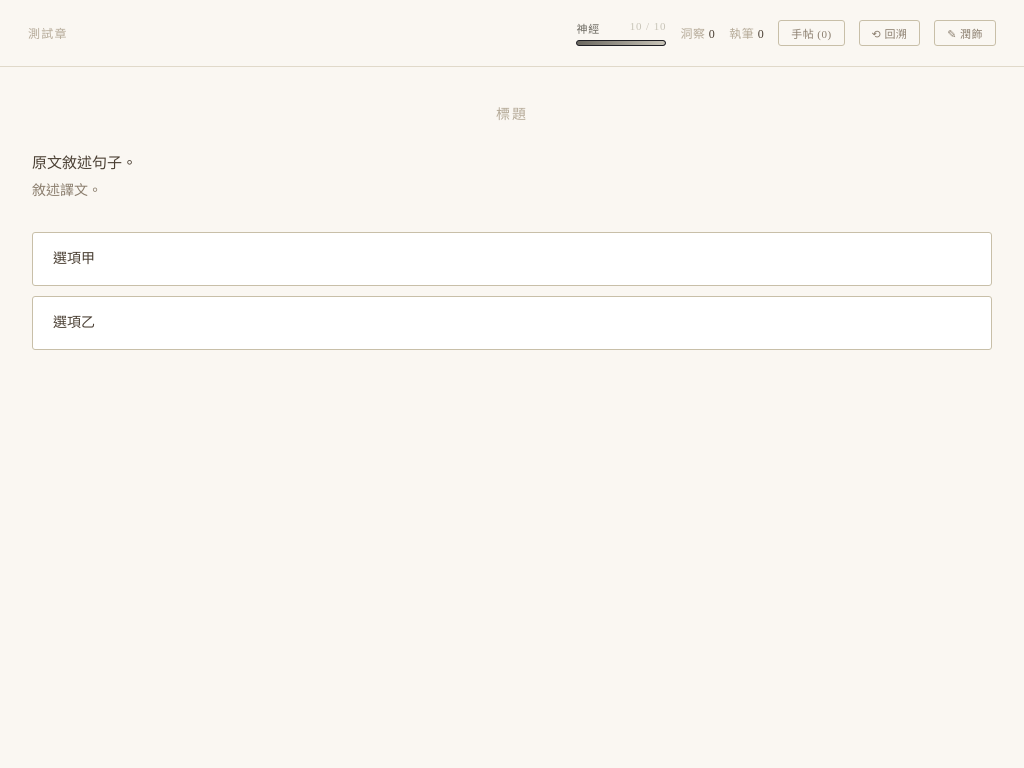
Scenario: HagurumaEngine — 編輯器潤飾模式 UI › editMode 下點擊 choice 按鈕不觸發選擇（不進下一場景），改開編輯面板
Expected: the button "選項甲" is shown, 32,232 -> 992,286
Step 1. Click the button "✎ 潤飾" → {"x": 965, "y": 33}, box 934,20 -> 996,46
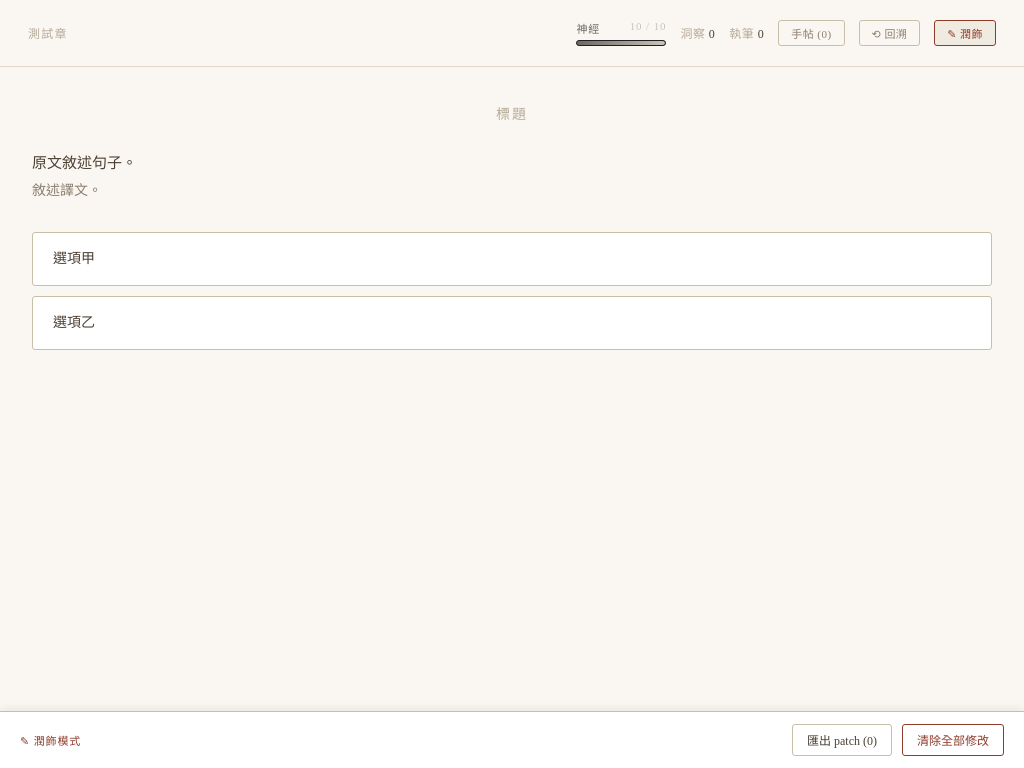
Step 2. Click the button "選項甲" → {"x": 74, "y": 259}, box 32,232 -> 992,286
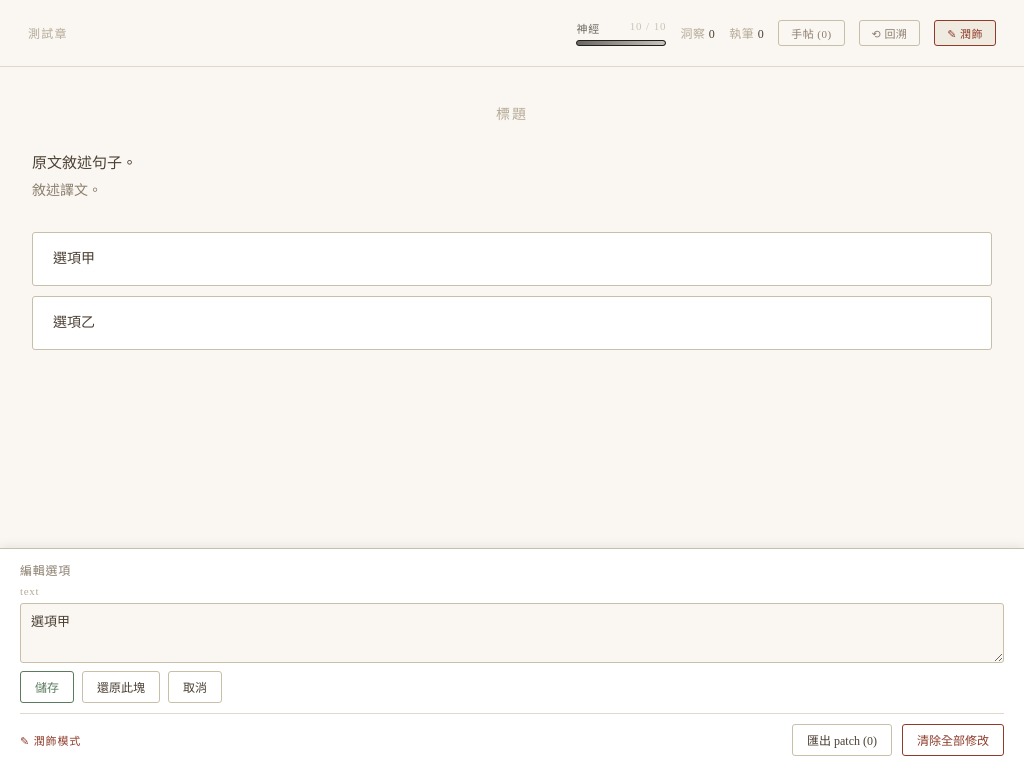
Expected: the button "選項乙" is shown, 32,296 -> 992,350
Expected: the text box with id "edit-panel-single" holds "選項甲"
Step 3. Replace the text in the text box with id "edit-panel-single" with "改過的選項甲" → {"x": 512, "y": 633}, box 20,603 -> 1004,663
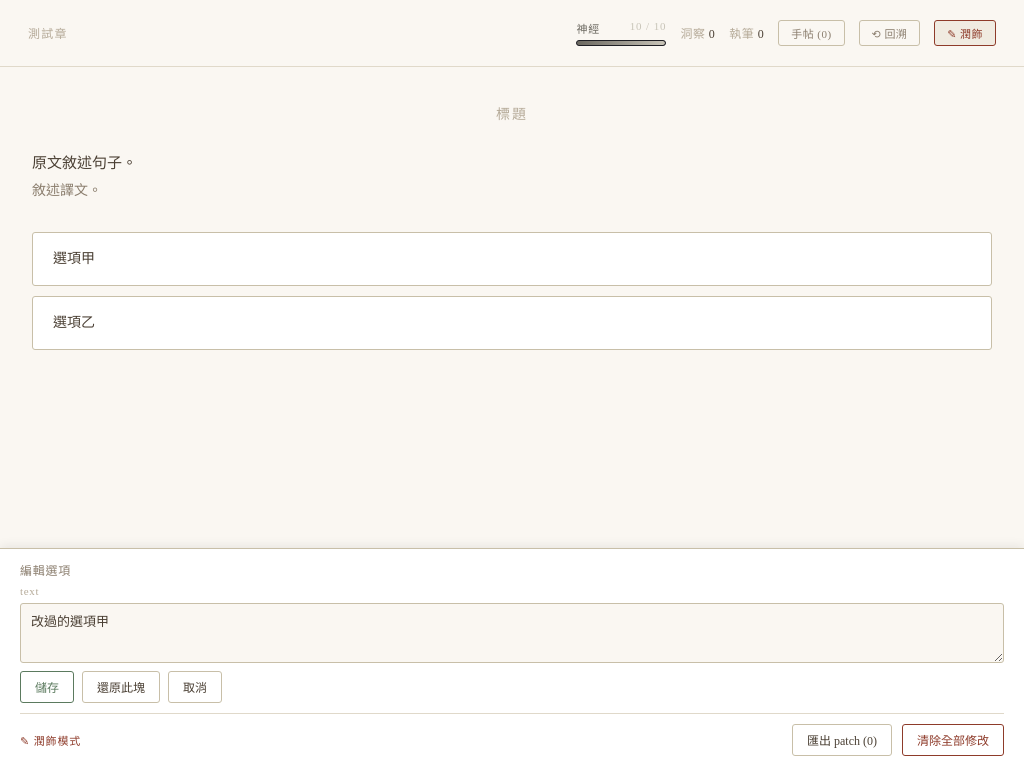
Step 4. Click the button "儲存" → {"x": 47, "y": 687}, box 20,671 -> 74,703
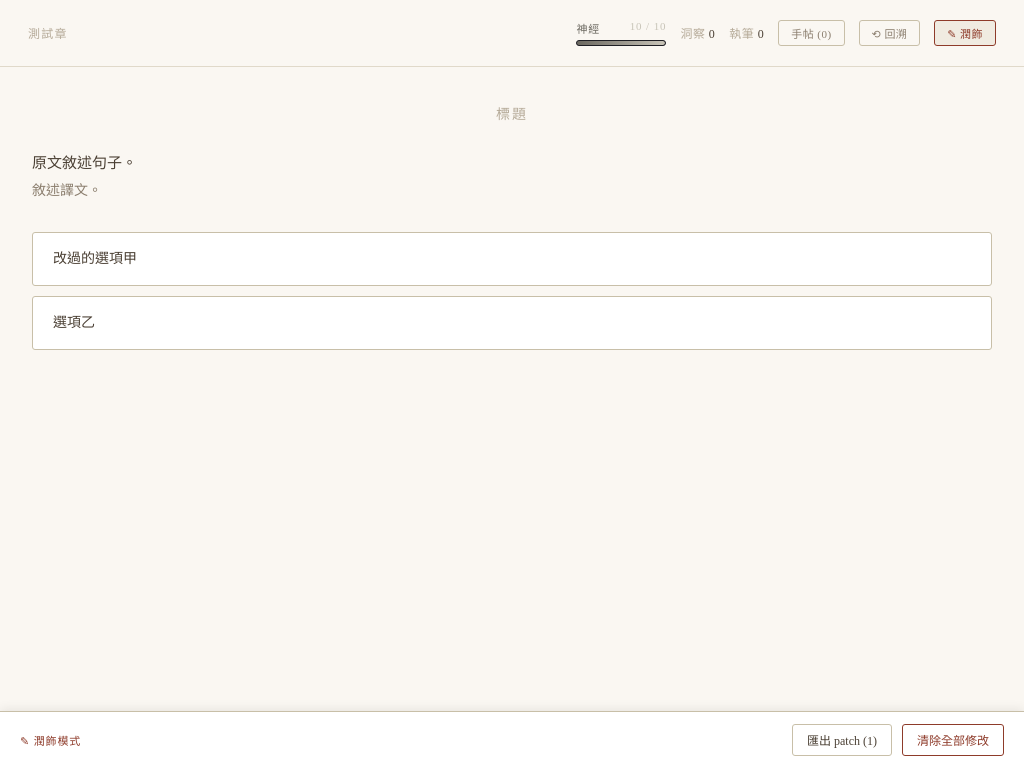
Expected: the button "改過的選項甲" is shown, 32,232 -> 992,286
